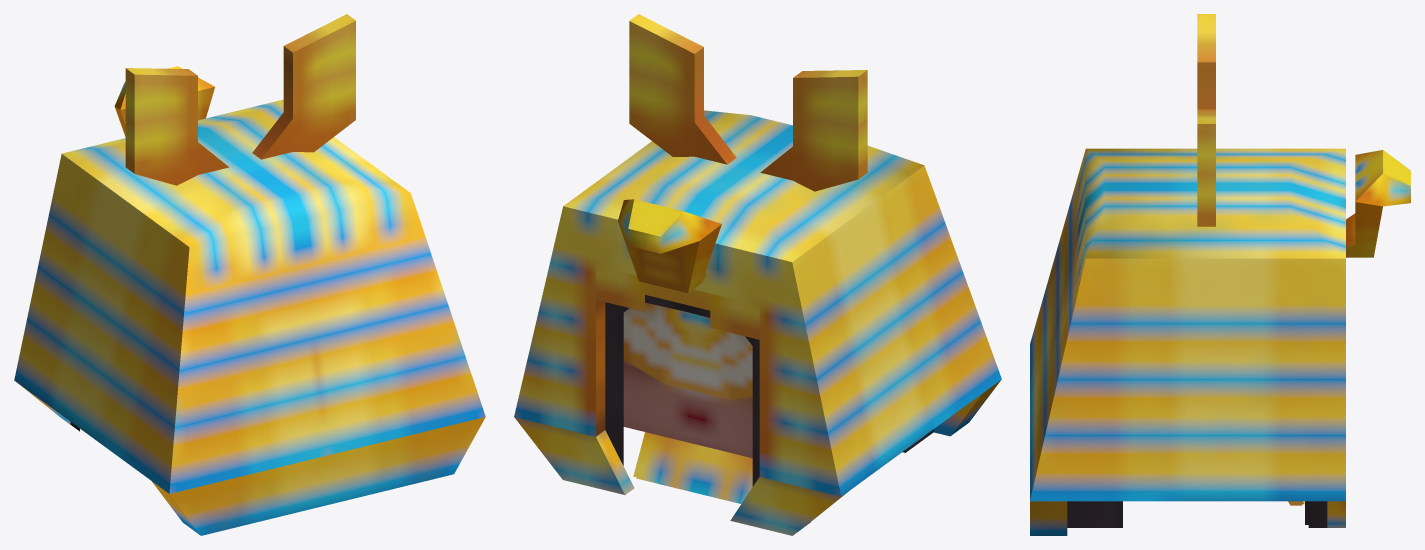
Rendered from cleopatra_head.glb.
The picture shows the model from 3 angles, left to right: view 1: azimuth 30°, elevation 25°; view 2: azimuth 150°, elevation 25°; view 3: azimuth 270°, elevation 25°; orthographic projection. The views are drawn at different scales.
Visible parts, largest first — view 1: cleopatra_head; view 2: cleopatra_head; view 3: cleopatra_head.
Boxes of the visible parts, x1,y1,x2,y2 form: cleopatra_head: (14,14,485,535); cleopatra_head: (514,14,1001,535); cleopatra_head: (1030,14,1410,535).
Bounding box in the file's own units: 7.86 × 9.48 × 8.05.
Materials: 1 (1 with a texture image).
